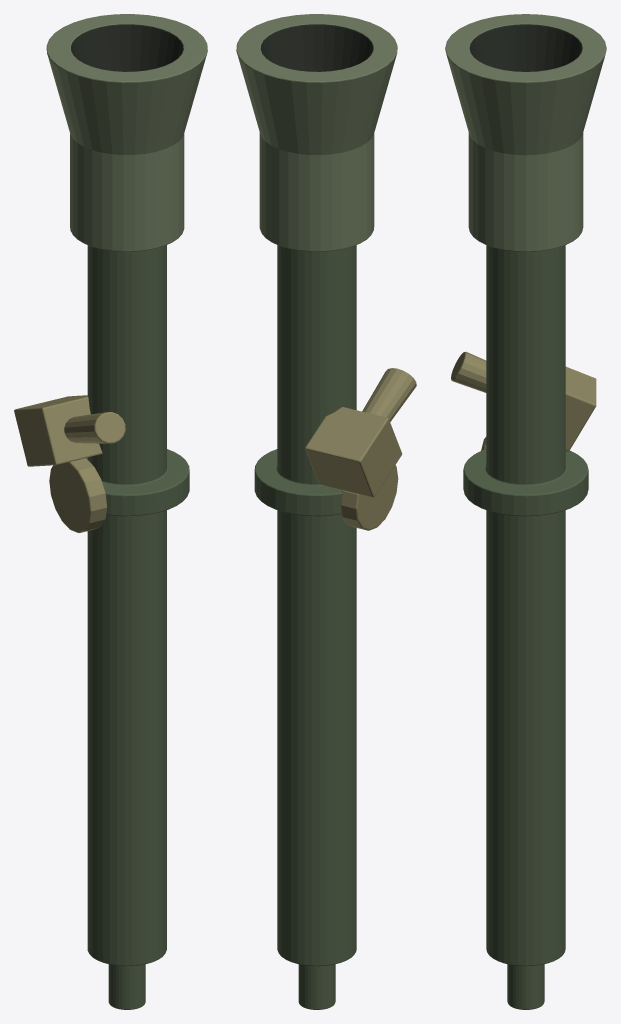
The model's file is mortar_player_tube.glb.
3 renders of one model, left to right at view 1: azimuth 30°, elevation 25°; view 2: azimuth 150°, elevation 25°; view 3: azimuth 270°, elevation 25°, orthographic.
Parts seen in each view (by area): view 1: Molded Mortar Tube, Side Detail; view 2: Molded Mortar Tube, Side Detail; view 3: Molded Mortar Tube, Side Detail.
Part boxes in pixels (x1,y1,x2,y2): Molded Mortar Tube: (46,14,207,1009); Side Detail: (14,395,125,532); Molded Mortar Tube: (236,14,397,1009); Side Detail: (305,368,416,530); Molded Mortar Tube: (445,14,606,1009); Side Detail: (451,351,596,451).
Size of the model in its own units: 0.2159 by 1.33 by 0.2035.
